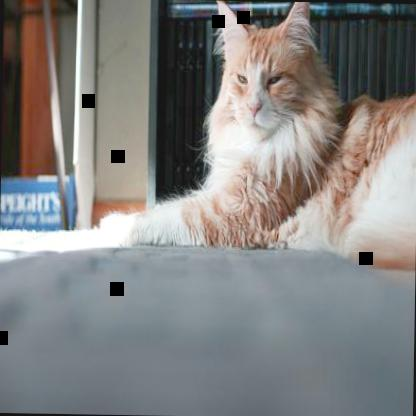cat: (128, 0, 415, 272)
